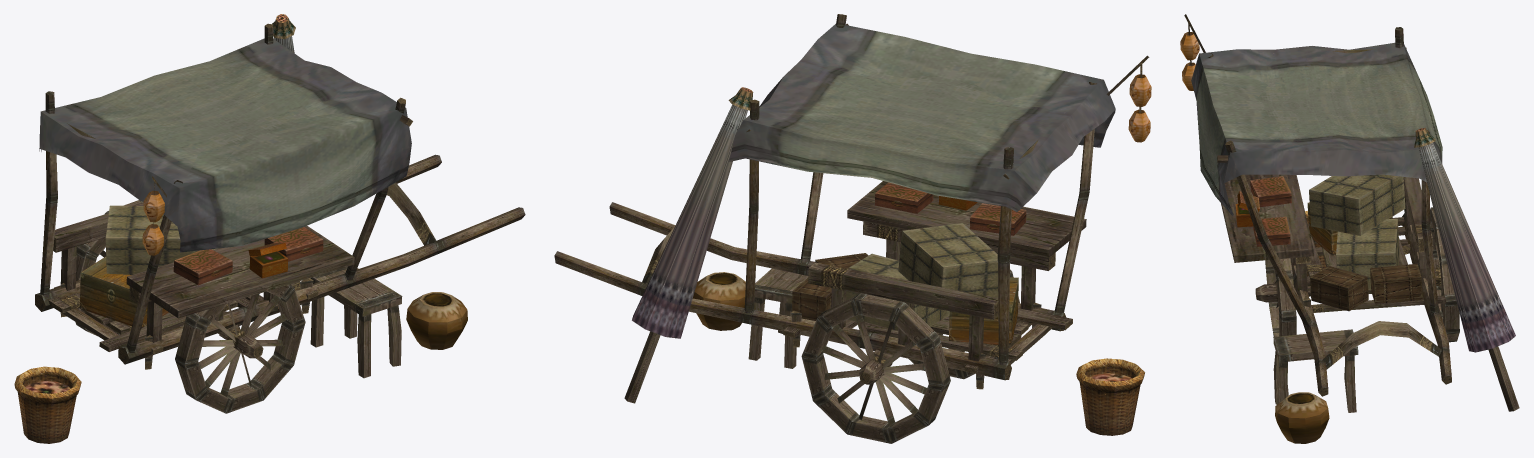
The model's file is MaChe01.FBX.
The picture shows the model from 3 angles, left to right: view 1: azimuth 30°, elevation 25°; view 2: azimuth 150°, elevation 25°; view 3: azimuth 270°, elevation 25°; orthographic projection. The views are drawn at different scales.
Parts seen in each view (by area): view 1: DrawCall_0475; view 2: DrawCall_0475; view 3: DrawCall_0475.
Part boxes in pixels (x1,y1,x2,y2): DrawCall_0475: (14,14,525,443); DrawCall_0475: (554,14,1151,443); DrawCall_0475: (1180,14,1519,443).
Bounding box in the file's own units: 548 × 313 × 350.
